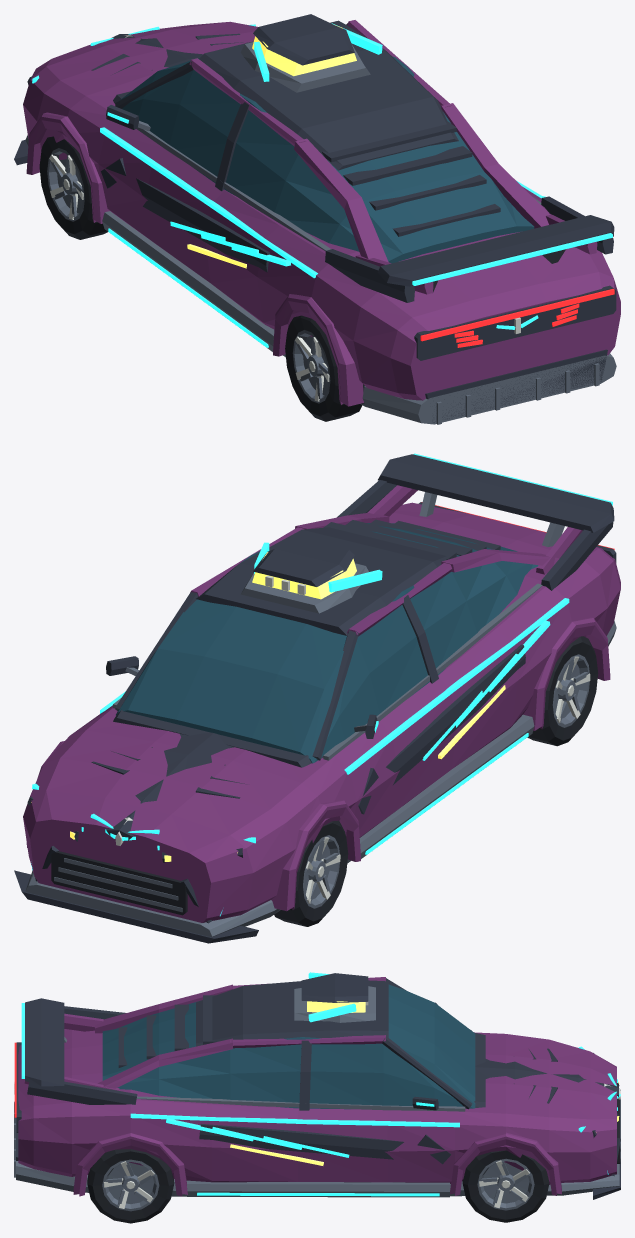
File: raven_taxi_argon.glb
The picture shows the model from 3 angles, top to bottom: view 1: azimuth 30°, elevation 25°; view 2: azimuth 150°, elevation 25°; view 3: azimuth 270°, elevation 25°; orthographic projection. The views are drawn at different scales.
Parts seen in each view (by area): view 1: Body_Paint_Plum, Body_Paint_Obsidian, Body_Glass_Opaque, Body_Metal_Chassis, Body_Neon_Cyan, Rubber (×2), Metal_Chassis (×2), Body_Lamp_Red, Body_Lamp_Amber, Paint_Ivory (×2); view 2: Body_Paint_Plum, Body_Paint_Obsidian, Body_Glass_Opaque, Body_Metal_Chassis, Body_Neon_Cyan, Rubber (×2), Body_Rubber, Metal_Chassis (×2), Body_Lamp_Amber; view 3: Body_Paint_Plum, Body_Paint_Obsidian, Body_Glass_Opaque, Body_Metal_Chassis, Rubber (×2), Body_Neon_Cyan, Metal_Chassis (×2), Paint_Ivory (×2), Body_Lamp_Amber.
Part boxes in pixels (x1,y1,x2,y2): Body_Paint_Plum: (23,20,620,406); Body_Paint_Obsidian: (14,14,616,422); Body_Glass_Opaque: (119,56,534,263); Body_Metal_Chassis: (25,42,616,424); Body_Neon_Cyan: (32,23,612,347); Rubber (×2): (39,136,362,421); Metal_Chassis (×2): (47,148,330,403); Body_Lamp_Red: (420,288,614,347); Body_Lamp_Amber: (187,25,356,268); Paint_Ivory (×2): (49,154,329,401); Body_Paint_Plum: (23,485,620,922); Body_Paint_Obsidian: (14,454,616,943); Body_Glass_Opaque: (116,523,538,763); Body_Metal_Chassis: (25,492,616,937); Body_Neon_Cyan: (31,453,612,916); Rubber (×2): (274,636,598,926); Body_Rubber: (51,851,187,915); Metal_Chassis (×2): (303,654,589,908); Body_Lamp_Amber: (31,552,505,861); Body_Paint_Plum: (18,977,616,1196); Body_Paint_Obsidian: (16,973,620,1199); Body_Glass_Opaque: (102,984,475,1109); Body_Metal_Chassis: (14,986,620,1197); Rubber (×2): (87,1149,549,1223); Body_Neon_Cyan: (21,972,620,1196); Metal_Chassis (×2): (102,1158,534,1211); Paint_Ivory (×2): (103,1160,529,1208); Body_Lamp_Amber: (230,1001,619,1165).
Bounding box in the file's own units: 1.84 × 1.66 × 4.76.
